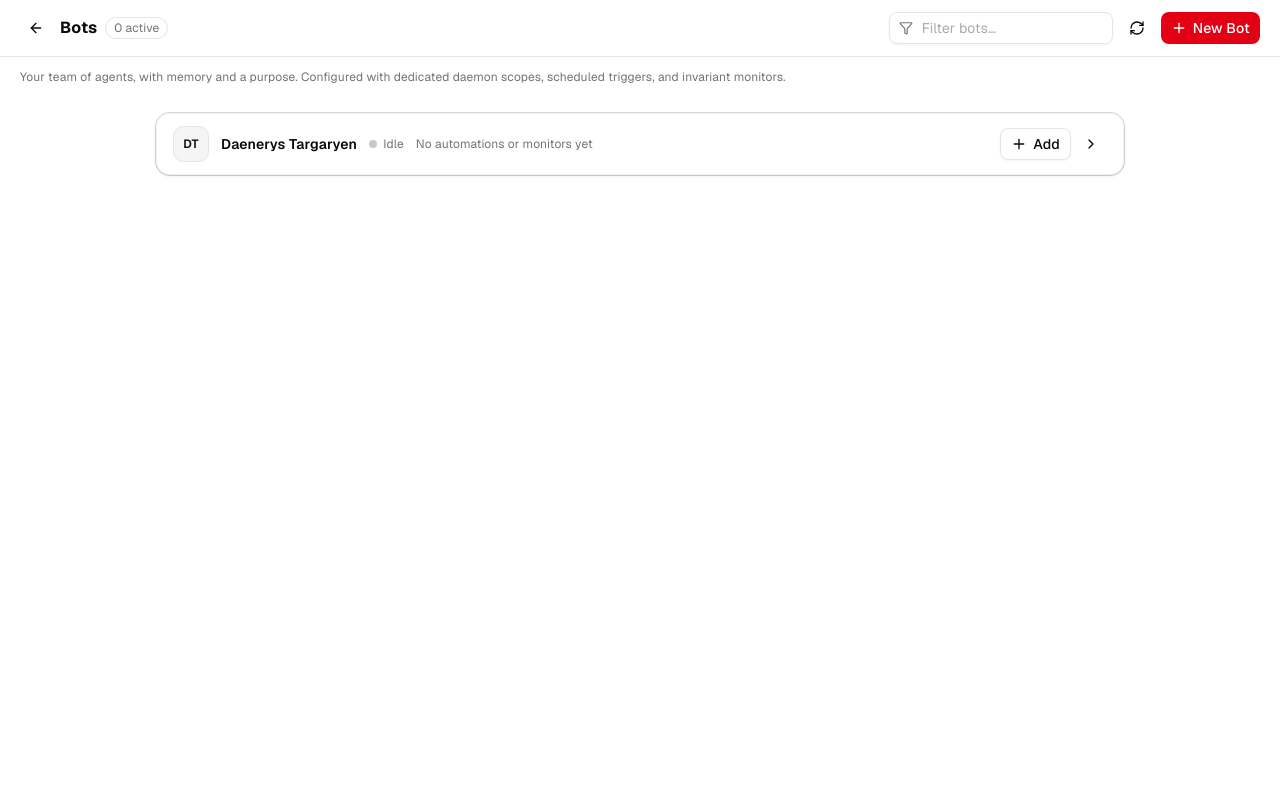
Scenario: Bot card expansion survives snapshot refreshes › keeps the collapsed row compact and its + Add working
The width and height of the screenshot is (1280, 800).
Click the button with test id "add-responsibility-bot-1" at (1036,144), box [1000,128,1071,160]
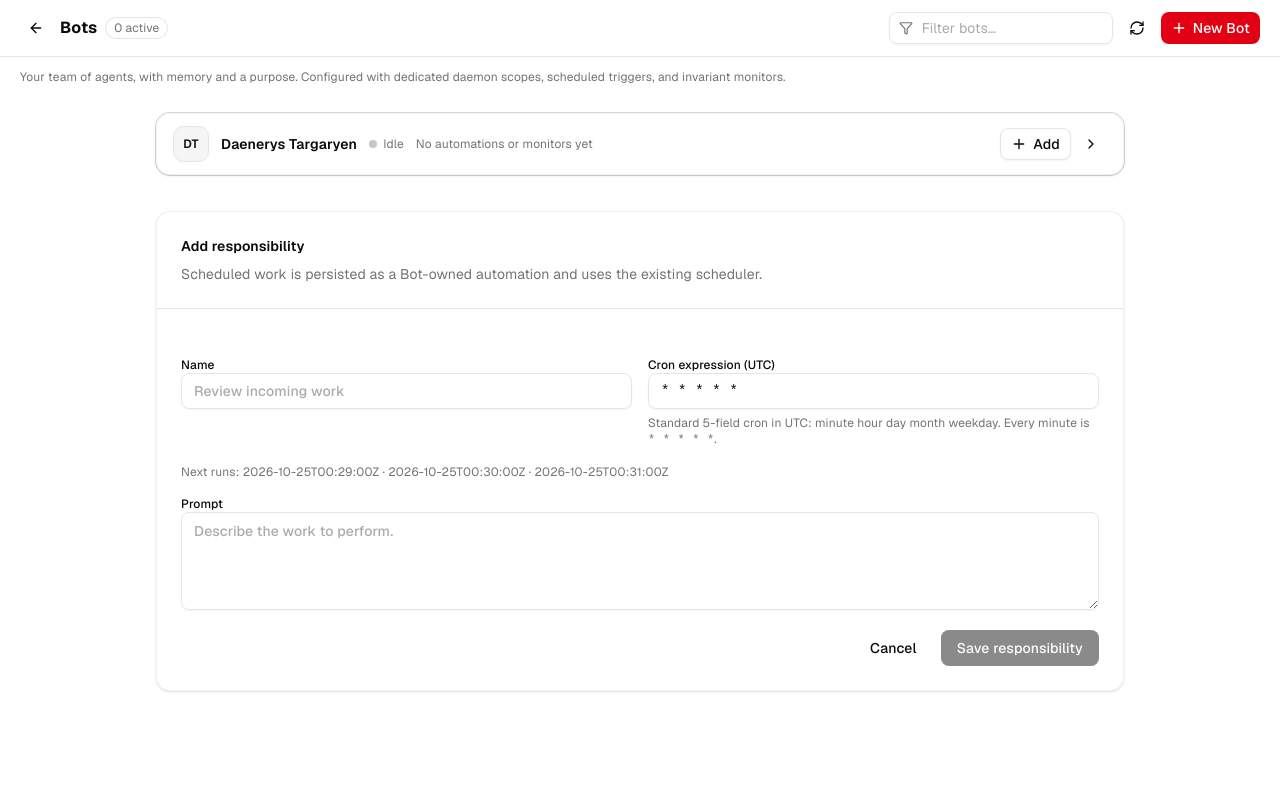
Now the element with test id "responsibility-form" is shown, box [156,211,1124,691]
